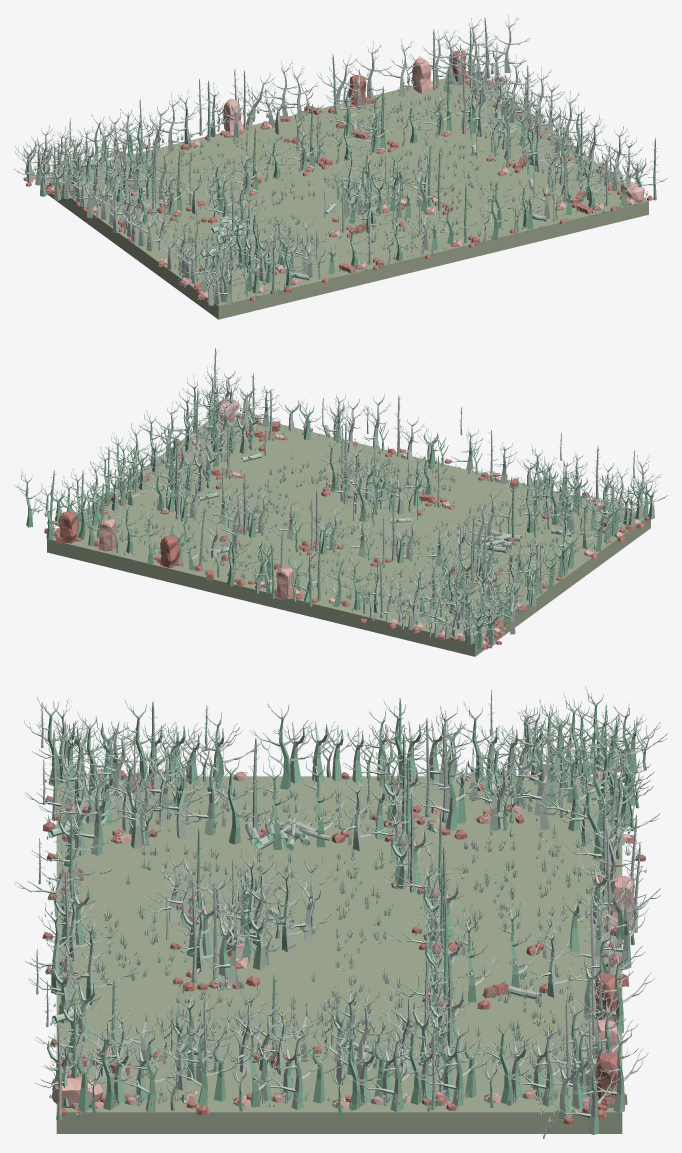
The model's file is Level_2Otherworld.fbx.
3 views of the same model, one above another, from view 1: azimuth 30°, elevation 25°; view 2: azimuth 150°, elevation 25°; view 3: azimuth 270°, elevation 25° (orthographic). The views are drawn at different scales.
Visible parts, largest first — view 1: BG_Cube.020, BigRock1.013, BigRock1.012; view 2: BG_Cube.020, BigRock2.025, BigRock1.012, BigRock2.026, BigRock1.013; view 3: BG_Cube.020, Tree2_1.578, Tree2_1.528, Tree2_1.524, Tree2_1.526, Tree2_1.522, Tree2_1.530, Tree2_1.537, Tree2_1.520, Tree2_1.519, Tree2_1.514, Tree2_1.579 (+41 smaller).
Boxes of the visible parts, x1,y1,x2,y2 form: BG_Cube.020: (46, 78, 648, 319); BigRock1.013: (412, 58, 432, 93); BigRock1.012: (223, 99, 243, 133); BG_Cube.020: (47, 415, 650, 656); BigRock2.025: (160, 535, 180, 568); BigRock1.012: (275, 567, 295, 599); BigRock2.026: (58, 511, 78, 543); BigRock1.013: (98, 519, 116, 551); BG_Cube.020: (56, 776, 622, 1133); Tree2_1.578: (409, 745, 489, 830); Tree2_1.528: (413, 1021, 492, 1106); Tree2_1.524: (252, 1024, 331, 1109); Tree2_1.526: (351, 1026, 430, 1111); Tree2_1.522: (549, 1049, 622, 1134); Tree2_1.530: (503, 1020, 578, 1106); Tree2_1.537: (249, 702, 330, 789); Tree2_1.520: (111, 1027, 194, 1112); Tree2_1.519: (166, 1020, 247, 1105); Tree2_1.514: (575, 1027, 648, 1112); Tree2_1.579: (529, 745, 609, 831).
Size of the model in its own units: 12894 by 1815 by 9019.
